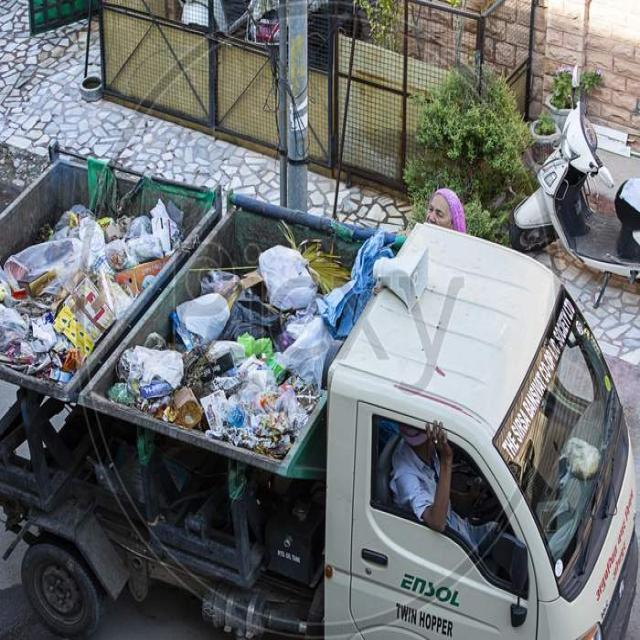Garbage: (109, 222, 392, 458), (0, 203, 182, 389)
Plastic: (226, 395, 245, 428)
Plastic_Bag: (211, 371, 308, 458), (54, 275, 116, 358), (279, 316, 332, 390), (4, 238, 81, 288), (259, 245, 316, 310), (116, 345, 182, 398), (220, 290, 281, 340), (176, 293, 230, 343), (79, 217, 106, 271), (201, 271, 241, 307), (0, 305, 29, 351), (128, 233, 164, 263), (238, 332, 274, 358), (248, 368, 276, 391), (125, 216, 151, 240), (266, 356, 286, 383)
Plastic_bottle: (172, 386, 202, 429)
Tetrapack: (199, 352, 233, 382)
